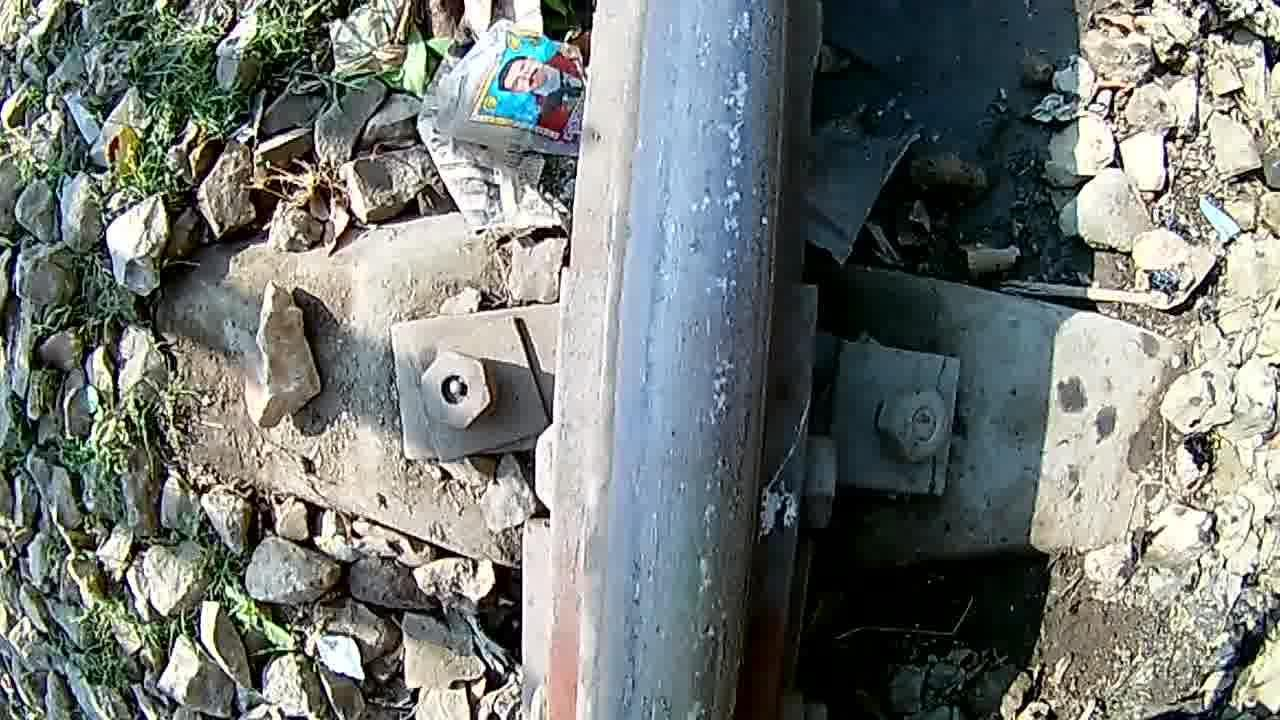crack: (595, 0, 793, 720)
